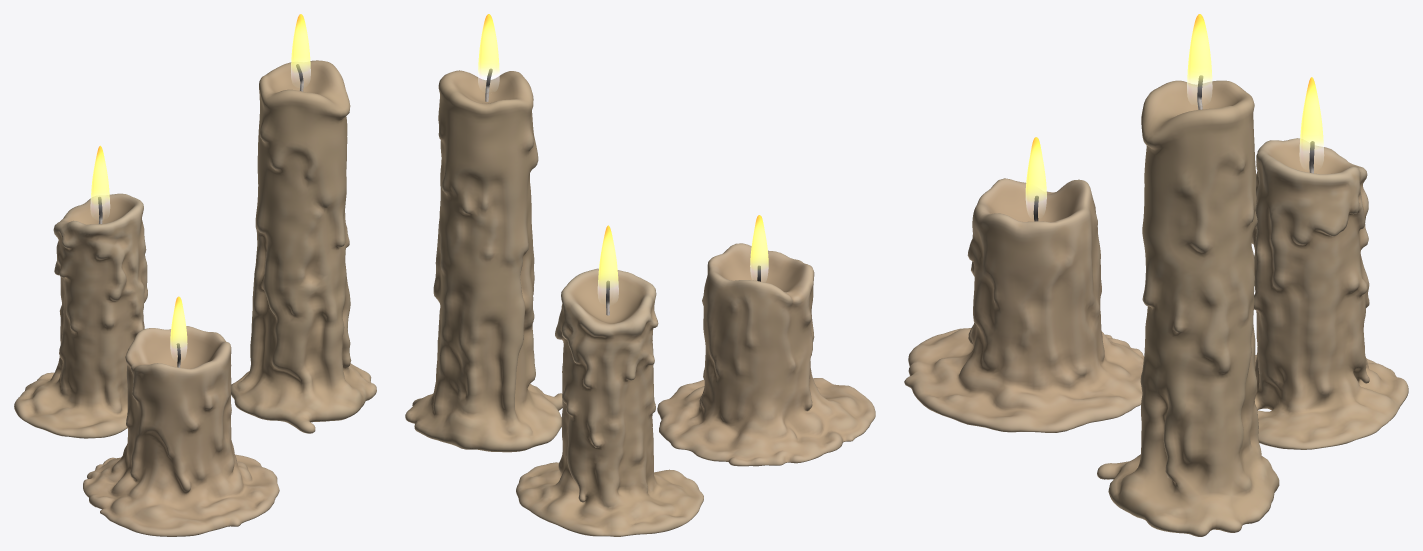
File: candles_set.glb
3 renders of one model, left to right at view 1: azimuth 30°, elevation 25°; view 2: azimuth 150°, elevation 25°; view 3: azimuth 270°, elevation 25°, orthographic. The views are drawn at different scales.
Visible parts, largest first — view 1: candle_1_0, candle_3_4, candle_2_2, Flame_1_8, Flame_2_7, Flame_3_6; view 2: candle_1_0, candle_3_4, candle_2_2, Flame_1_8, Flame_2_7, Flame_3_6; view 3: candle_1_0, candle_3_4, candle_2_2, Flame_1_8, Flame_2_7, Flame_3_6.
Part boxes in pixels (left/top/right/bottom): candle_1_0: left=231, top=60, right=376, bottom=433; candle_3_4: left=83, top=326, right=279, bottom=536; candle_2_2: left=14, top=193, right=147, bottom=438; Flame_1_8: left=291, top=14, right=310, bottom=82; Flame_2_7: left=90, top=145, right=109, bottom=214; Flame_3_6: left=170, top=296, right=187, bottom=356; candle_1_0: left=405, top=70, right=562, bottom=452; candle_3_4: left=657, top=243, right=875, bottom=466; candle_2_2: left=516, top=268, right=703, bottom=536; Flame_1_8: left=478, top=14, right=499, bottom=87; Flame_2_7: left=597, top=225, right=618, bottom=299; Flame_3_6: left=750, top=215, right=768, bottom=279; candle_1_0: left=1097, top=80, right=1279, bottom=536; candle_3_4: left=904, top=178, right=1144, bottom=432; candle_2_2: left=1251, top=138, right=1408, bottom=449; Flame_1_8: left=1187, top=14, right=1212, bottom=99; Flame_2_7: left=1299, top=77, right=1323, bottom=163; Flame_3_6: left=1025, top=137, right=1046, bottom=213.
Size of the model in its own units: 0.2037 by 0.2194 by 0.2083.
Materials: 4 (4 with a texture image).
